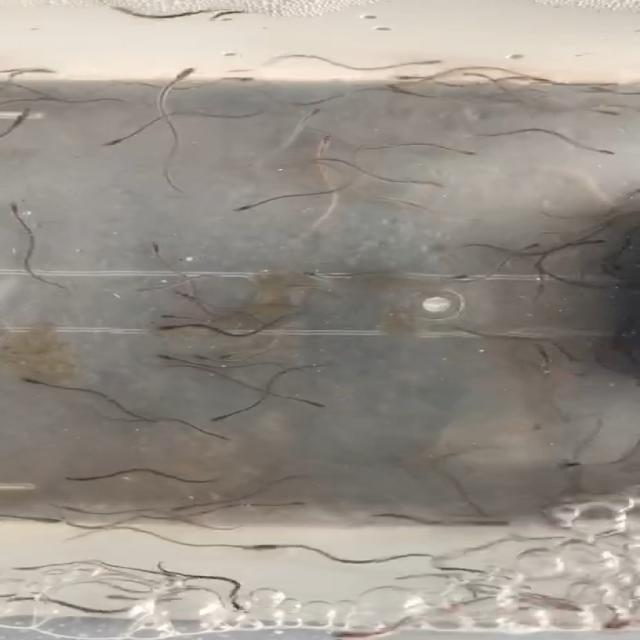active_glass_eel: (404, 49, 451, 69), (451, 76, 498, 96), (4, 102, 38, 128), (329, 622, 377, 640), (297, 131, 338, 152), (546, 344, 584, 366), (234, 196, 280, 214), (144, 242, 180, 265), (296, 102, 333, 124), (395, 198, 437, 217), (153, 320, 200, 336), (101, 592, 154, 606), (228, 71, 267, 90), (165, 65, 198, 87), (400, 176, 448, 191), (239, 540, 286, 555), (514, 420, 555, 437), (571, 144, 620, 158), (96, 130, 134, 148), (216, 598, 250, 618), (47, 499, 95, 513), (586, 105, 626, 121), (434, 271, 476, 286), (191, 348, 228, 365), (3, 200, 31, 222), (202, 429, 238, 446), (292, 269, 338, 282), (447, 144, 480, 162), (152, 81, 194, 95), (129, 280, 163, 297), (387, 73, 434, 85), (554, 458, 587, 475), (509, 238, 544, 254), (205, 412, 247, 425), (571, 237, 609, 251), (301, 395, 334, 411), (165, 499, 196, 516), (532, 354, 557, 375), (59, 470, 98, 483), (278, 497, 312, 511), (148, 354, 190, 365), (17, 373, 52, 386), (588, 79, 629, 90), (148, 314, 193, 324), (602, 260, 628, 276), (218, 350, 250, 362), (170, 289, 203, 299)
